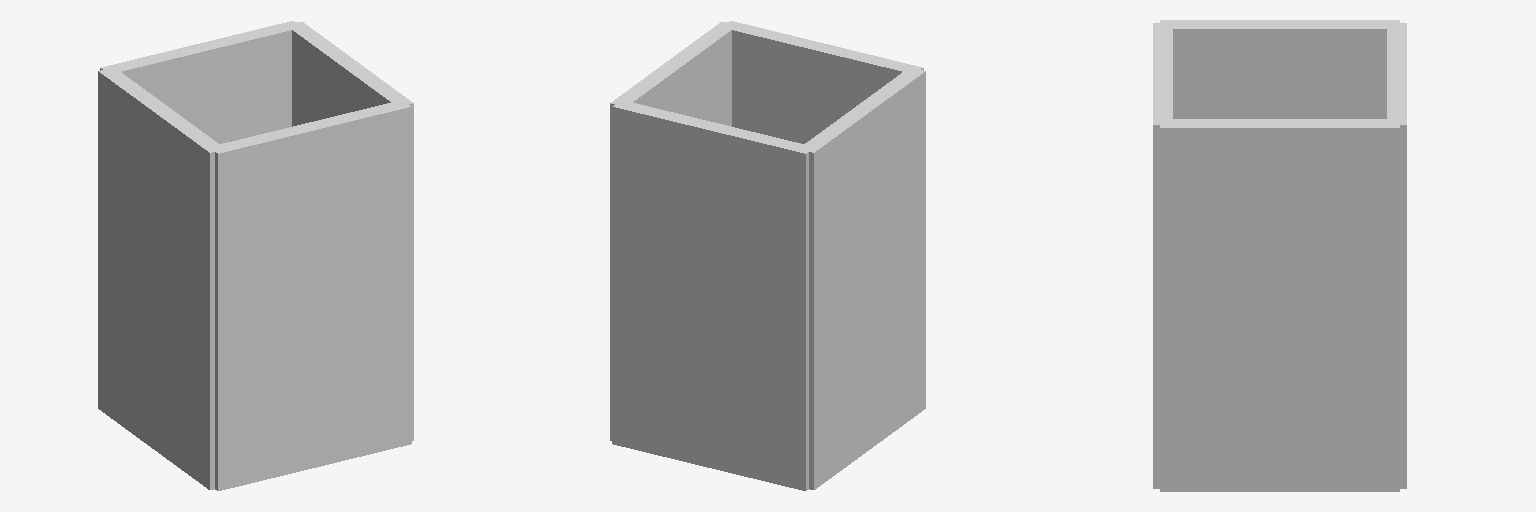
robot.urdf — white_box.urdf:
<?xml version="1.0"?>
<robot name="white_box.urdf">
  <material name="white">
    <color rgba="0.9 0.9 0.9 1"/>
  </material>
  <link name="bottom">
    <visual>
      <origin xyz="0 0 -0.2"/>
      <geometry>
        <box size="0.3 0.3 0.1"/>
      </geometry>
      <material name="white"/>
    </visual>
    <collision>
      <origin xyz="0 0 -0.15"/>
      <geometry>
        <box size="0.3 0.3 0.1"/>
      </geometry>
    </collision>
    <inertial>
      <mass value="0.2"/>
      <inertia ixx="1.0" iyy="1.0" izz="1.0" ixy="0" ixz="0" iyz="0"/>
    </inertial>
  </link>
  <link name="edge_nx">
    <visual>
      <geometry>
        <box size="0.025 0.3 0.5"/>
      </geometry>
      <material name="white"/>
    </visual>
    <collision>
      <geometry>
        <box size="0.025 0.3 0.5"/>
      </geometry>
    </collision>
    <inertial>
      <mass value="0.2"/>
      <inertia ixx="1.0" iyy="1.0" izz="1.0" ixy="0" ixz="0" iyz="0"/>
    </inertial>
  </link>
  <link name="edge_px">
    <visual>
      <geometry>
        <box size="0.025 0.3 0.5"/>
      </geometry>
      <material name="white"/>
    </visual>
    <collision>
      <geometry>
        <box size="0.025 0.3 0.5"/>
      </geometry>
    </collision>
    <inertial>
      <mass value="0.2"/>
      <inertia ixx="1.0" iyy="1.0" izz="1.0" ixy="0" ixz="0" iyz="0"/>
    </inertial>
  </link>
  <link name="edge_ny">
    <visual>
      <geometry>
        <box size="0.3 0.025 0.5"/>
      </geometry>
      <material name="white"/>
    </visual>
    <collision>
      <geometry>
        <box size="0.3 0.025 0.5"/>
      </geometry>
    </collision>
    <inertial>
      <mass value="0.2"/>
      <inertia ixx="1.0" iyy="1.0" izz="1.0" ixy="0" ixz="0" iyz="0"/>
    </inertial>
  </link>
  <link name="edge_py">
    <visual>
      <geometry>
        <box size="0.3 0.025 0.5"/>
      </geometry>
      <material name="white"/>
    </visual>
    <collision>
      <geometry>
        <box size="0.3 0.025 0.5"/>
      </geometry>
    </collision>
    <inertial>
      <mass value="0.2"/>
      <inertia ixx="1.0" iyy="1.0" izz="1.0" ixy="0" ixz="0" iyz="0"/>
    </inertial>
  </link>

  <joint name="edge_joint_nx" type="fixed">
    <origin xyz="-0.1455 0 0"/>
    <parent link="bottom"/>
    <child link="edge_nx"/>
  </joint>
  <joint name="edge_joint_px" type="fixed">
    <origin xyz="0.1455 0 0"/>
    <parent link="bottom"/>
    <child link="edge_px"/>
  </joint>
  <joint name="edge_joint_ny" type="fixed">
    <origin xyz="0 -0.1455 0"/>
    <parent link="bottom"/>
    <child link="edge_ny"/>
  </joint>
  <joint name="edge_joint_py" type="fixed">
    <origin xyz="0 0.1455 0"/>
    <parent link="bottom"/>
    <child link="edge_py"/>
  </joint>
</robot>

--- What the picture shows (computed from the rendered views, not written in the file) ---
Views: 3 orthographic renders of the robot side by side, from view 1: azimuth 30°, elevation 25°; view 2: azimuth 150°, elevation 25°; view 3: azimuth 270°, elevation 25°.
Model white_box.urdf with 5 links and 4 joints (4 fixed), rooted at bottom, posed all joints at 0.
Visible links, largest first — view 1: edge_ny, edge_nx, edge_py, edge_px; view 2: edge_py, edge_nx, edge_ny, edge_px; view 3: edge_px, edge_nx, edge_ny, edge_py.
Link boxes in pixels (box(x1,y1,x2,y2)): edge_ny: box(215, 103, 411, 490); edge_nx: box(98, 67, 224, 489); edge_py: box(100, 21, 296, 143); edge_px: box(286, 22, 413, 440); edge_py: box(612, 103, 808, 490); edge_nx: box(799, 67, 925, 489); edge_ny: box(726, 21, 923, 143); edge_px: box(610, 22, 737, 440); edge_px: box(1160, 119, 1399, 491); edge_nx: box(1160, 20, 1399, 118); edge_ny: box(1153, 23, 1172, 488); edge_py: box(1387, 23, 1406, 488).
Size in the robot's own frame: 0.316 by 0.316 by 0.5 metres.
Geometry: primitives only (box / cylinder / sphere), no mesh files.
